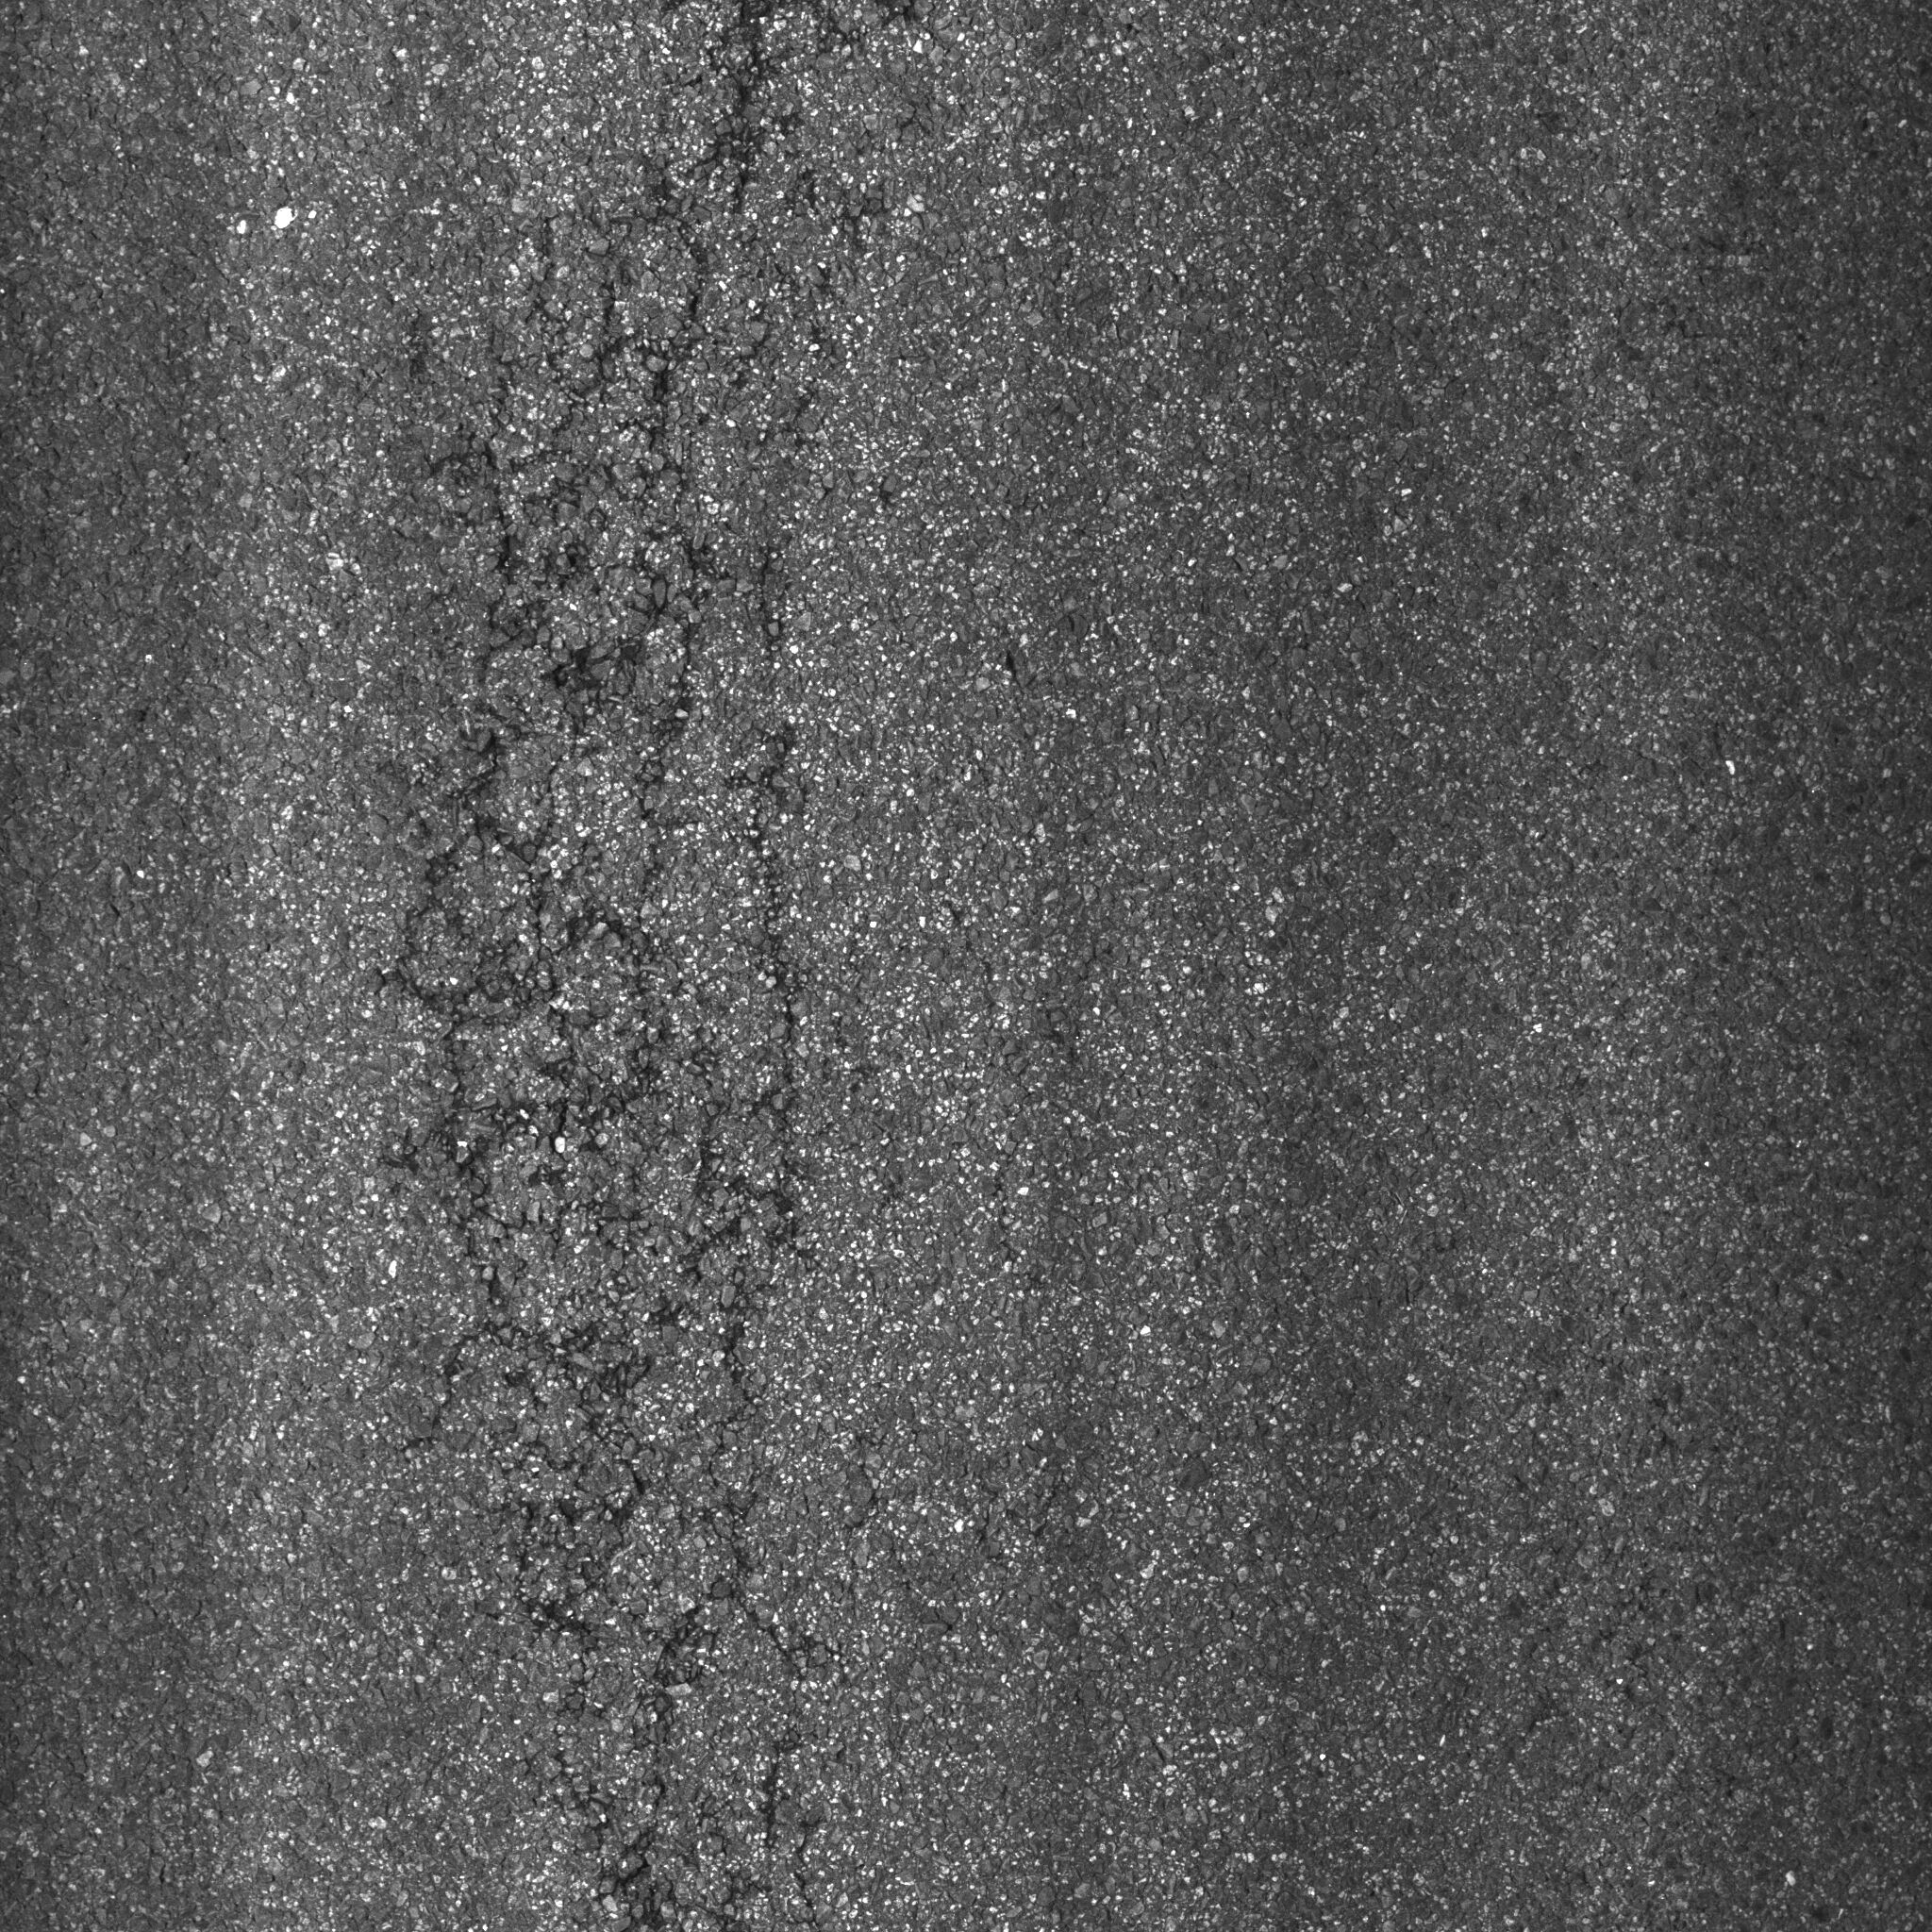alligator: (258, 7, 966, 1921)
